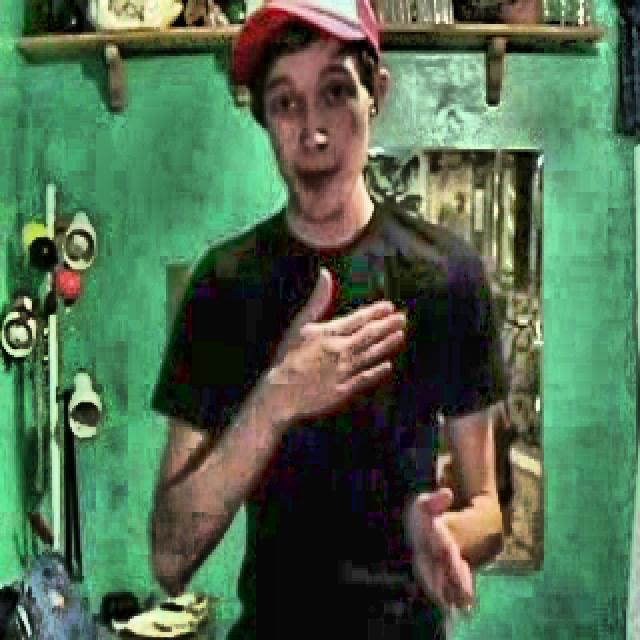F: (150, 4, 507, 634)
